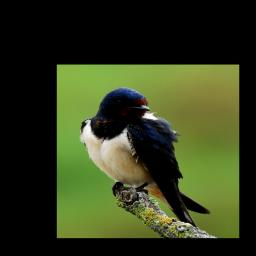Swallow: (79, 86, 212, 229)
